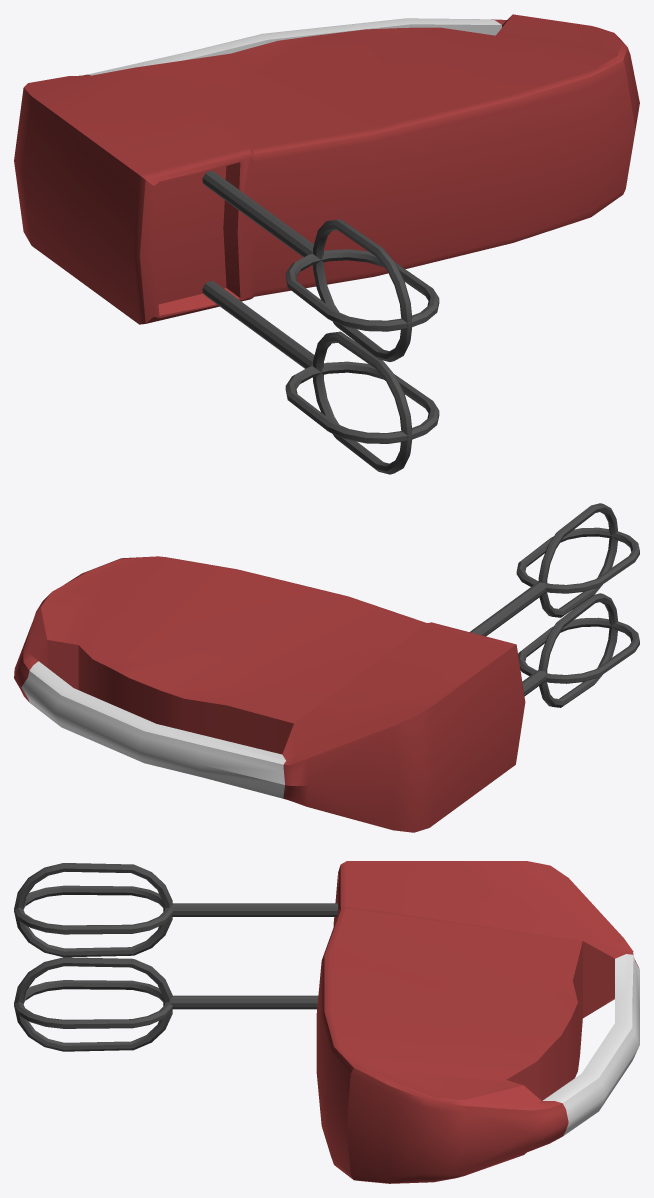
The model's file is robot_culinaire.fbx.
The picture shows the model from 3 angles, top to bottom: view 1: azimuth 30°, elevation 25°; view 2: azimuth 150°, elevation 25°; view 3: azimuth 270°, elevation 25°; orthographic projection. The views are drawn at different scales.
Parts seen in each view (by area): view 1: pCylinder2; view 2: pCylinder2; view 3: pCylinder2.
Boxes of the visible parts, left/top/right/bottom form: pCylinder2: left=14, top=14, right=639, bottom=474; pCylinder2: left=14, top=503, right=639, bottom=832; pCylinder2: left=14, top=861, right=639, bottom=1183.
Bounding box in the file's own units: 275 × 106 × 323.
